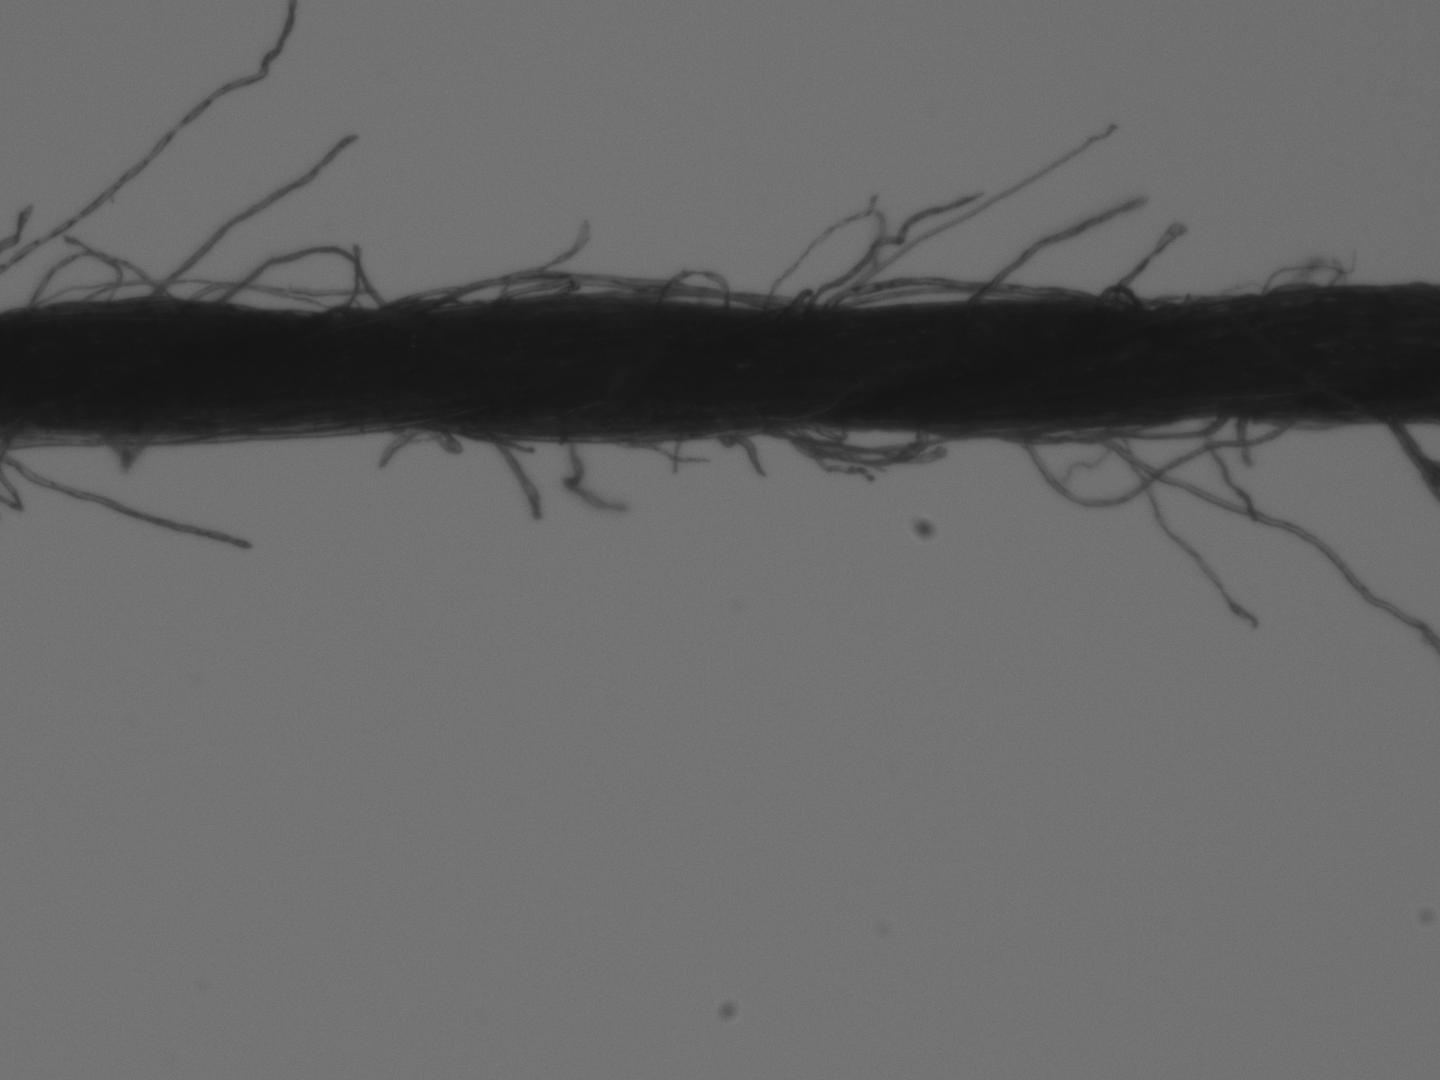loop_fiber: (1017, 415, 1290, 505), (220, 251, 358, 313), (29, 251, 166, 313), (818, 279, 1089, 310), (764, 420, 925, 464), (941, 419, 1214, 442), (429, 272, 571, 310), (653, 265, 728, 311), (1101, 285, 1138, 312)
protruding_fiber: (6, 5, 298, 268), (820, 121, 1113, 299), (142, 135, 355, 302), (1, 450, 262, 558), (963, 195, 1146, 303), (1100, 229, 1185, 304), (490, 437, 545, 521)
